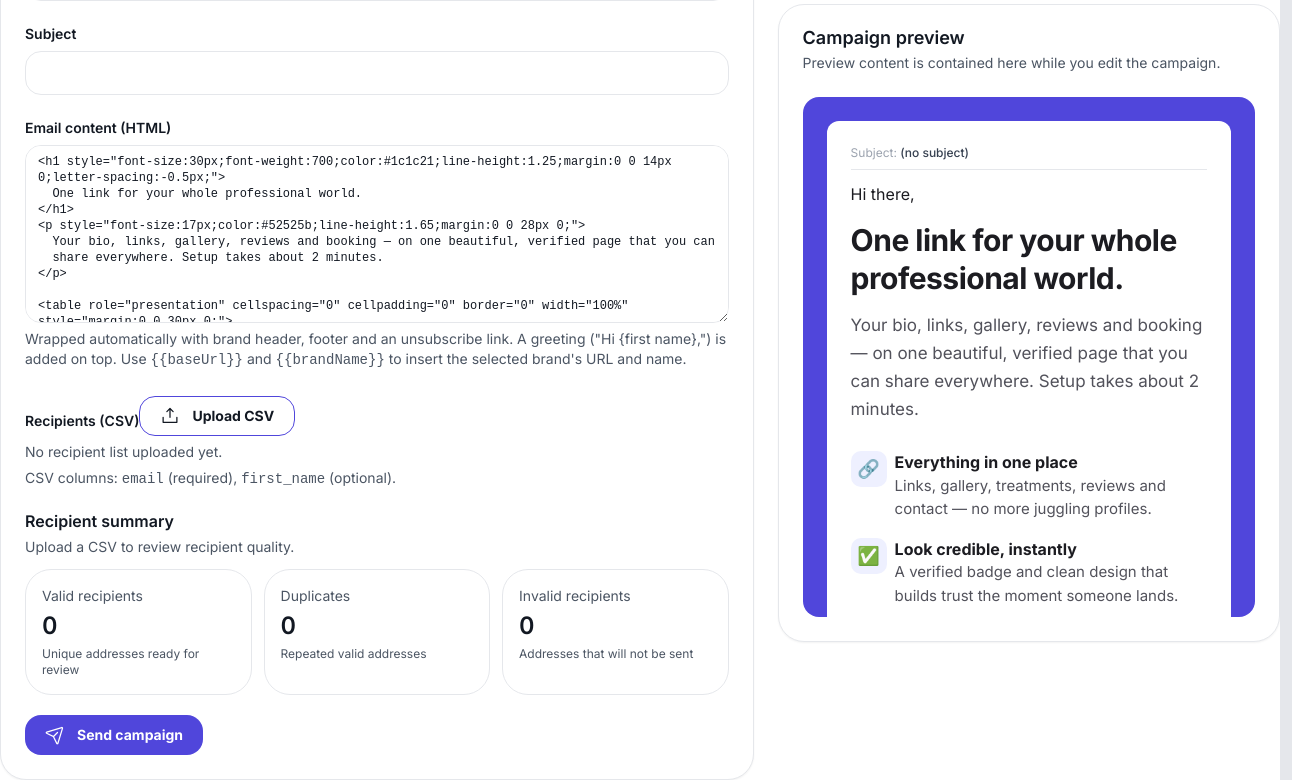
Scenario: MarketingCampaign › validates the owned fields before opening confirmation
The width and height of the screenshot is (1292, 780).
(page scrolled)
Click the button "Send campaign".
click(114, 735)  # box [25,715,203,755]
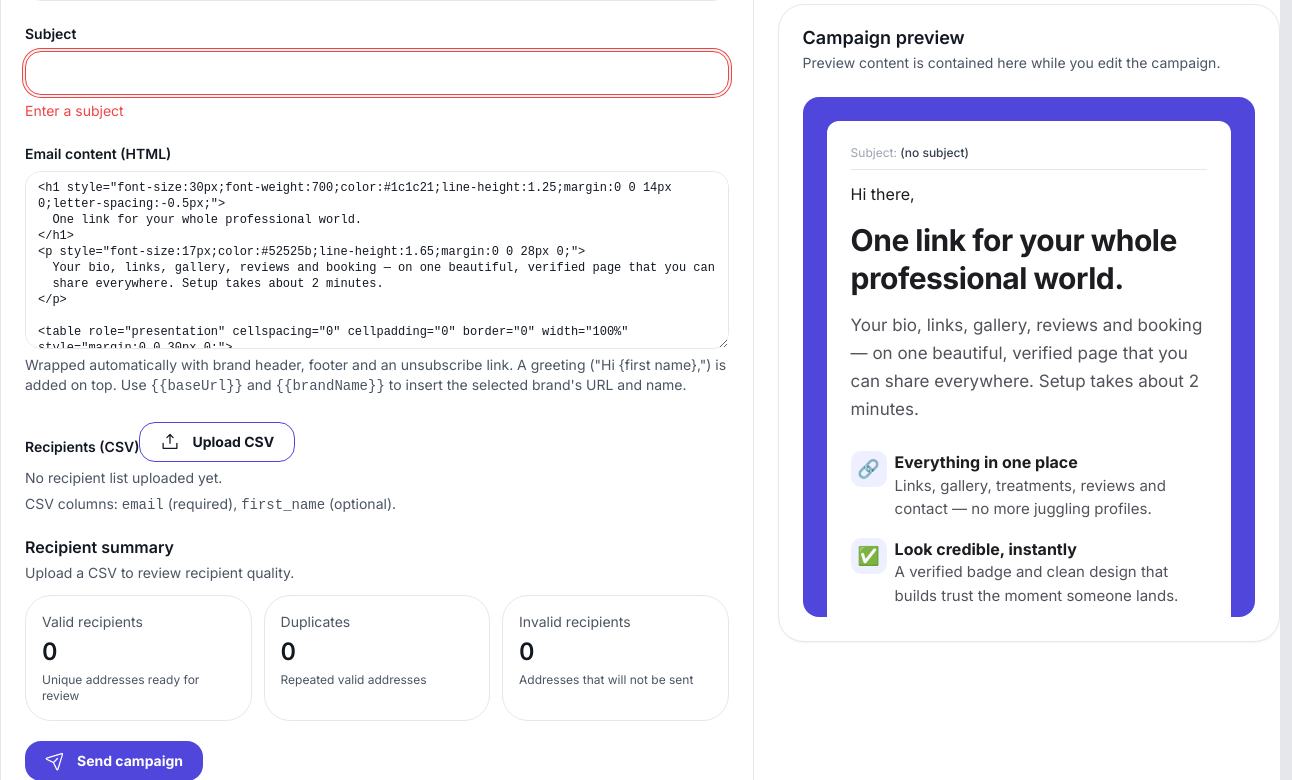
Expected: the text "Enter a subject" is shown, [25,102,124,119]
